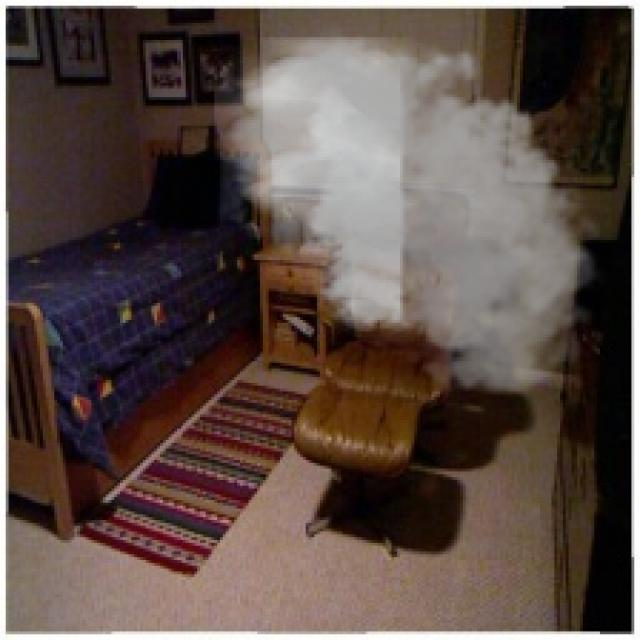smoke: (214, 23, 612, 403)
